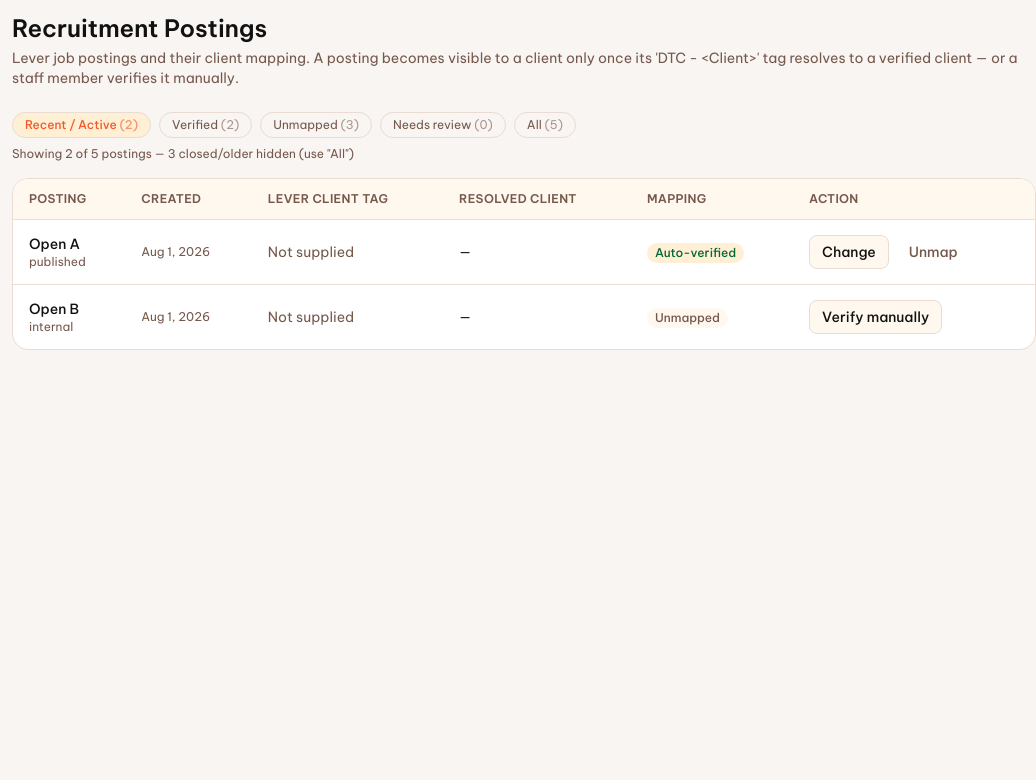
Scenario: PostingsView filter chips › "All" reveals every posting
The width and height of the screenshot is (1036, 780).
Expected: the text "Open A" is shown, [29, 235, 80, 253]
Click the button "All (5)": (545, 125) [514, 112, 576, 138]
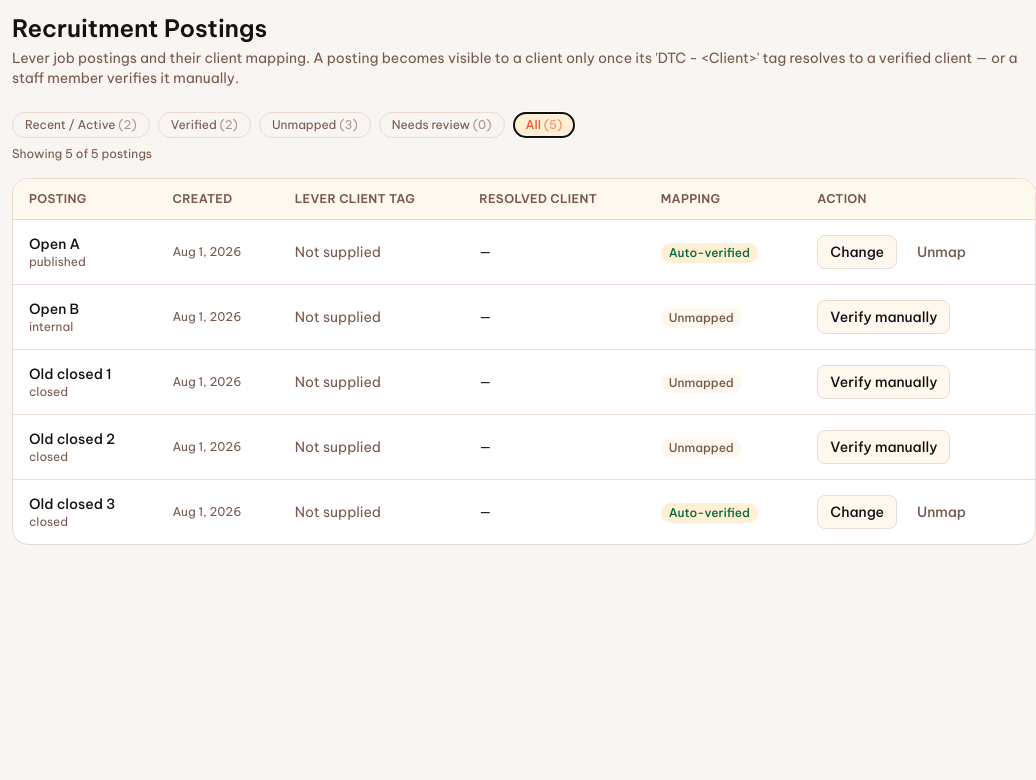
Expected: the text "Old closed 1" is shown, [29, 365, 112, 383]
Expected: the text "Showing 5 of 5 postings" is shown, [12, 146, 152, 161]
